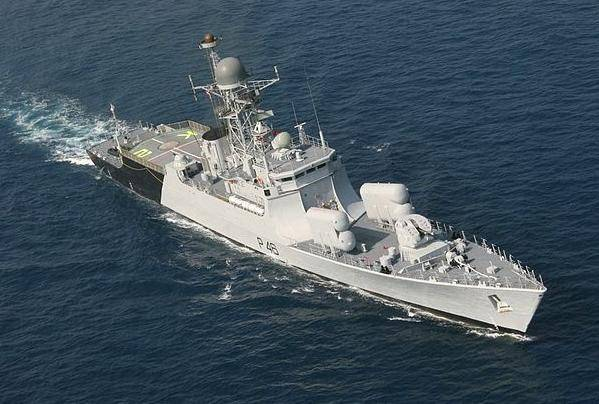ship: (90, 34, 557, 356)
